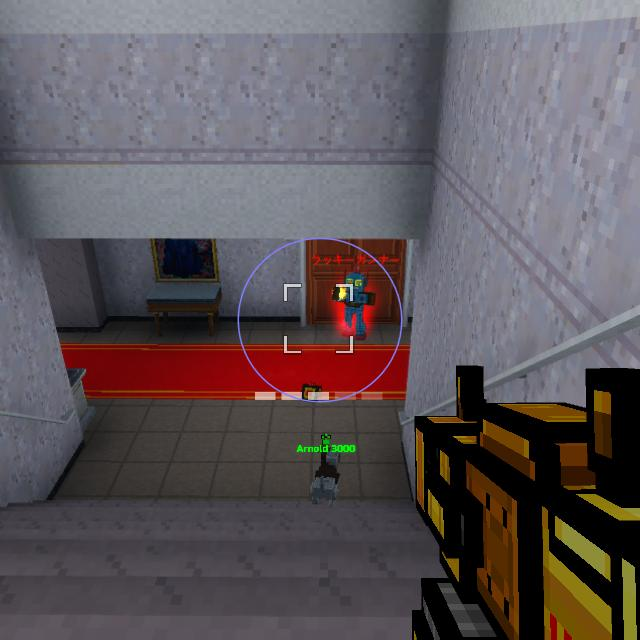Enemy: (333, 271, 378, 339)
